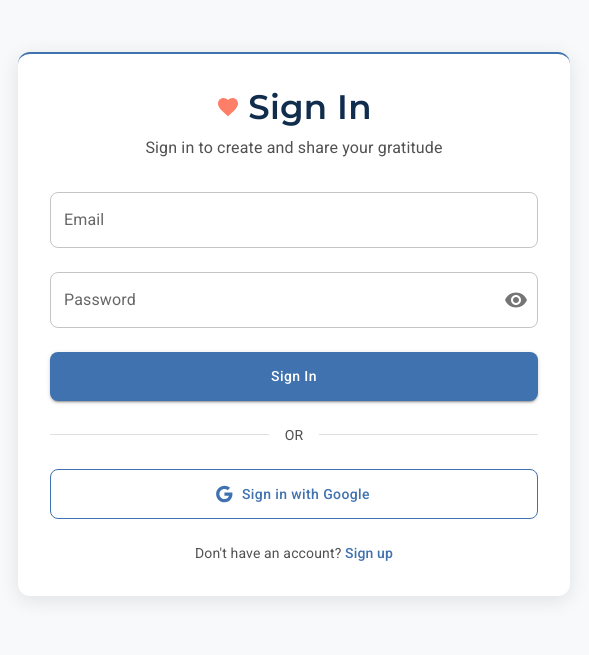
Test: Login Component › shows error message when login fails
Fill form and submit
Type "test@example.com" into the field labelled "Email". click: (294, 220)
box: 50,192 -> 538,248
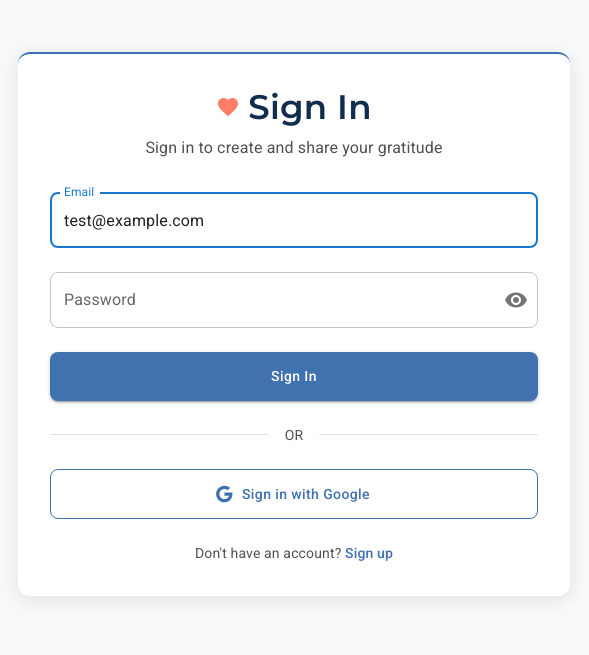
Type "wrongpassword" into the password field labelled "Password". click: (269, 300)
box: 50,272 -> 488,328
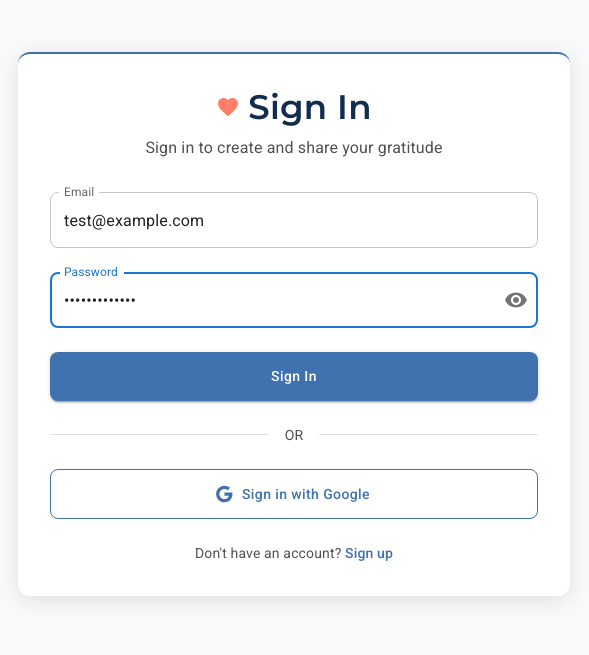
Click the button "Sign In". click: (294, 377)
box: 50,352 -> 538,401
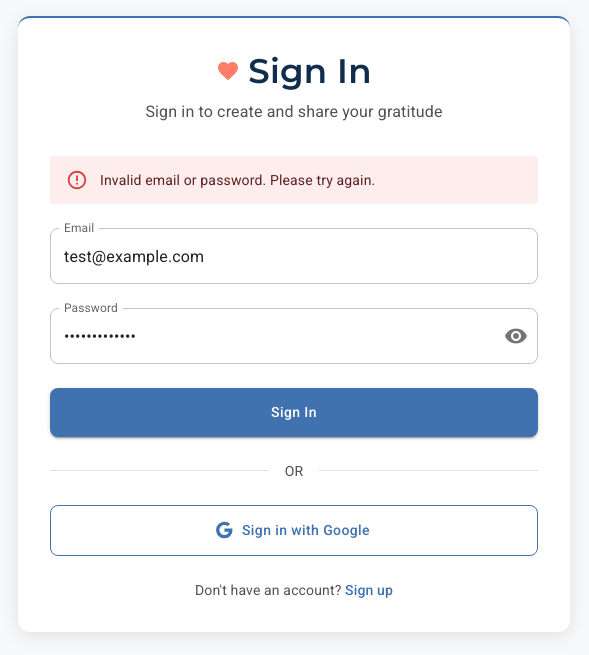
Expected: the text "Invalid email or password. Please try again." is shown, 100,172 -> 375,188
